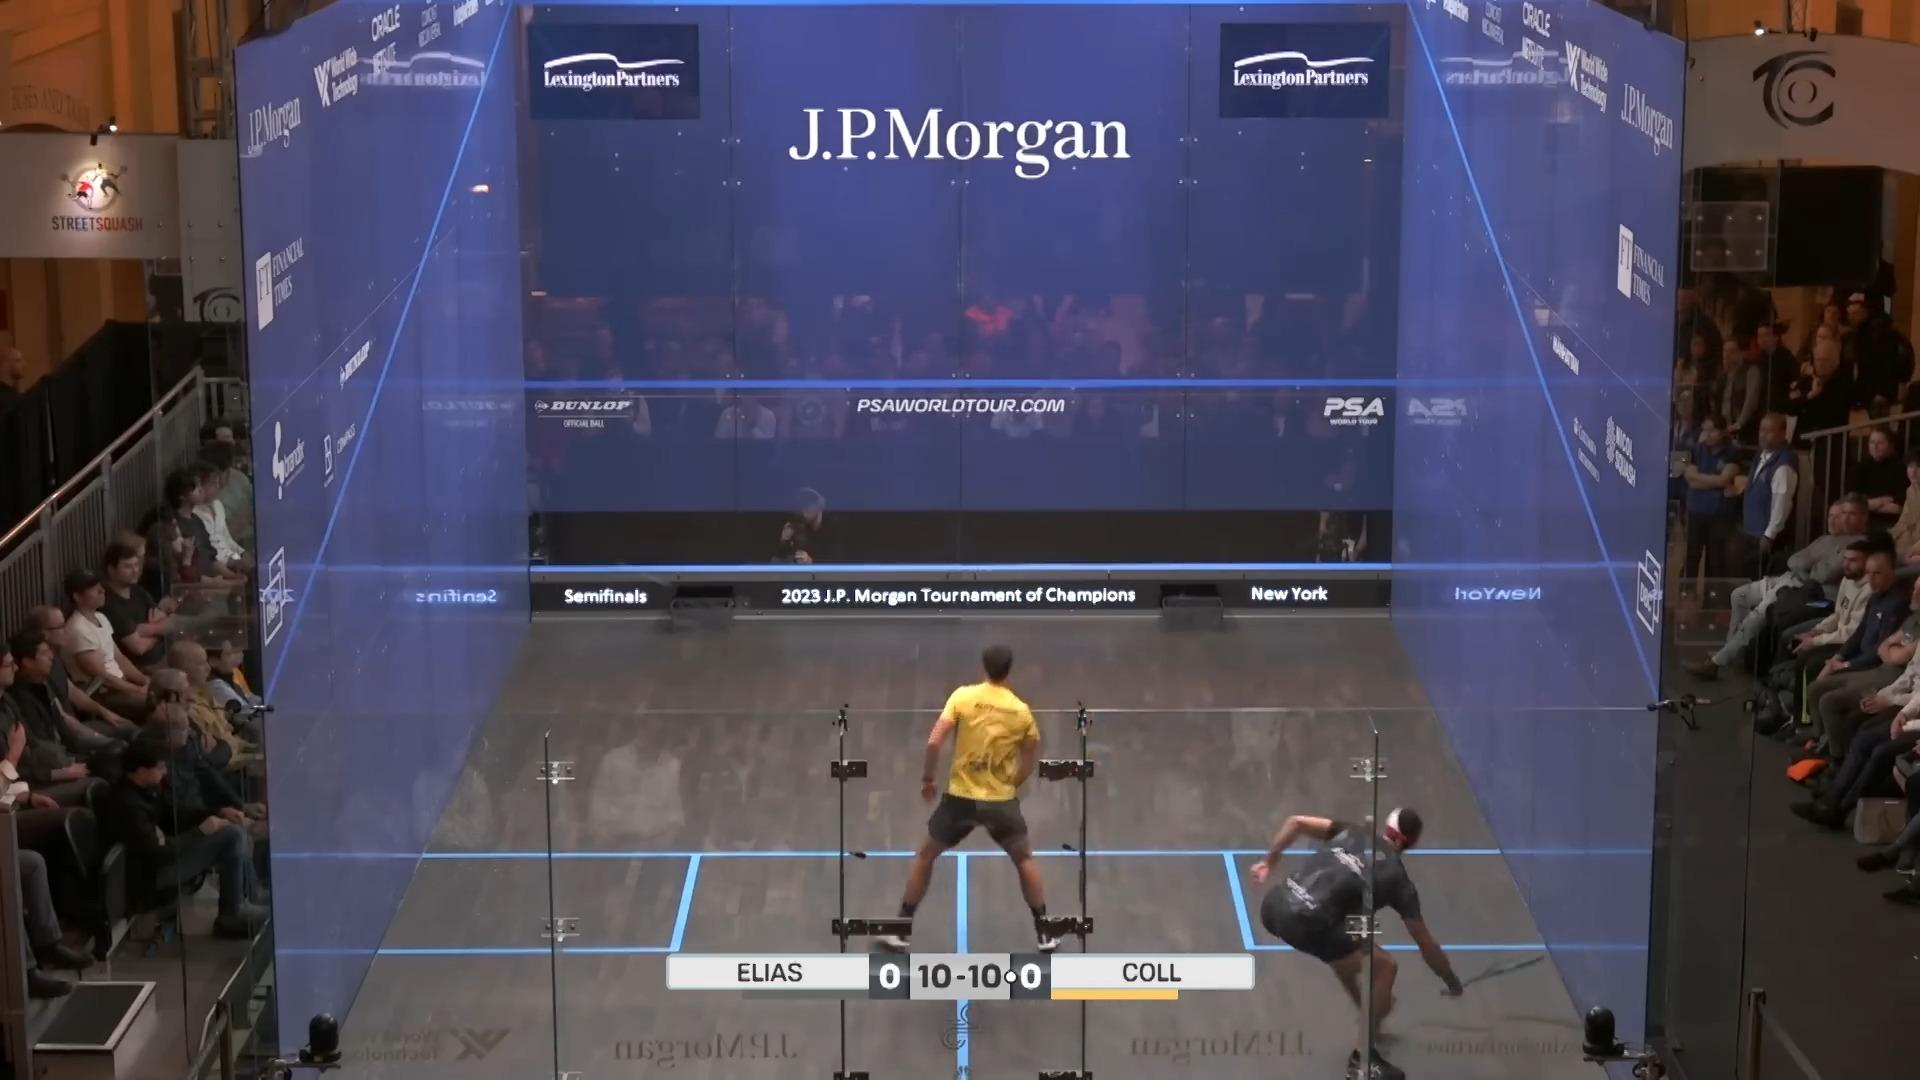Racket: (1458, 934, 1551, 992)
